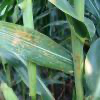Corn rust leaf: (0, 20, 99, 80)
